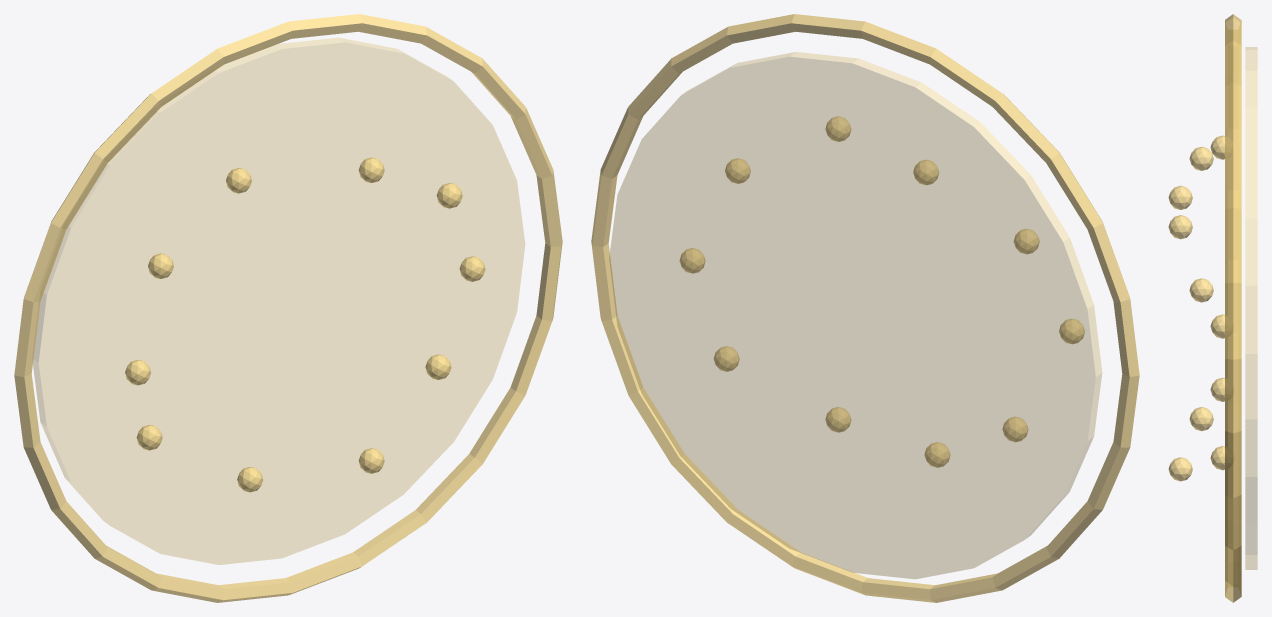
Rendered from 02_water_star_environment_overlay_2.glb.
3 renders of one model, left to right at view 1: azimuth 30°, elevation 25°; view 2: azimuth 150°, elevation 25°; view 3: azimuth 270°, elevation 25°, orthographic. The views are drawn at different scales.
Visible parts, largest first — view 1: environment_surface_disc, foam_or_star_ring; view 2: environment_surface_disc, foam_or_star_ring; view 3: foam_or_star_ring, environment_surface_disc, star_or_droplet_1, star_or_droplet_4, star_or_droplet_8, star_or_droplet_2, star_or_droplet_5, star_or_droplet_7, star_or_droplet_6, star_or_droplet_3, star_or_droplet_9, star_or_droplet_0.
Part boxes in pixels (bbox=[...]): environment_surface_disc: bbox=[33, 38, 524, 564]; foam_or_star_ring: bbox=[14, 14, 562, 602]; environment_surface_disc: bbox=[609, 52, 1101, 578]; foam_or_star_ring: bbox=[591, 14, 1139, 602]; foam_or_star_ring: bbox=[1225, 14, 1241, 602]; environment_surface_disc: bbox=[1245, 47, 1257, 569]; star_or_droplet_1: bbox=[1189, 278, 1213, 302]; star_or_droplet_4: bbox=[1189, 146, 1213, 170]; star_or_droplet_8: bbox=[1168, 457, 1192, 481]; star_or_droplet_2: bbox=[1168, 185, 1192, 209]; star_or_droplet_5: bbox=[1168, 215, 1192, 239]; star_or_droplet_7: bbox=[1189, 407, 1213, 431]; star_or_droplet_6: bbox=[1210, 314, 1224, 338]; star_or_droplet_3: bbox=[1210, 135, 1224, 159]; star_or_droplet_9: bbox=[1210, 446, 1224, 470]; star_or_droplet_0: bbox=[1210, 377, 1224, 401].
Bounding box in the file's own units: 1.69 × 1.69 × 0.2545.
